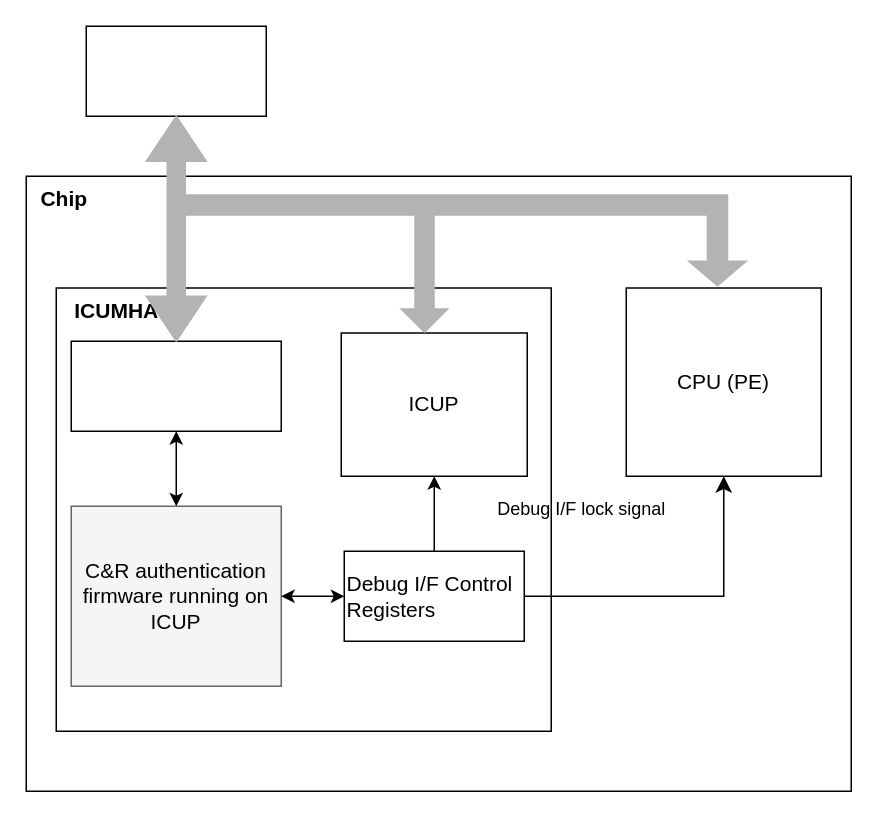
This 878x818 diagram has some shape labels left out. The shapes that lost their labels are listed below. From the top down, each one's centre as x and y in pixels, then its label:
At point 175,70: "PC & Debuuger".
At point 175,385: "Communication Registers".
